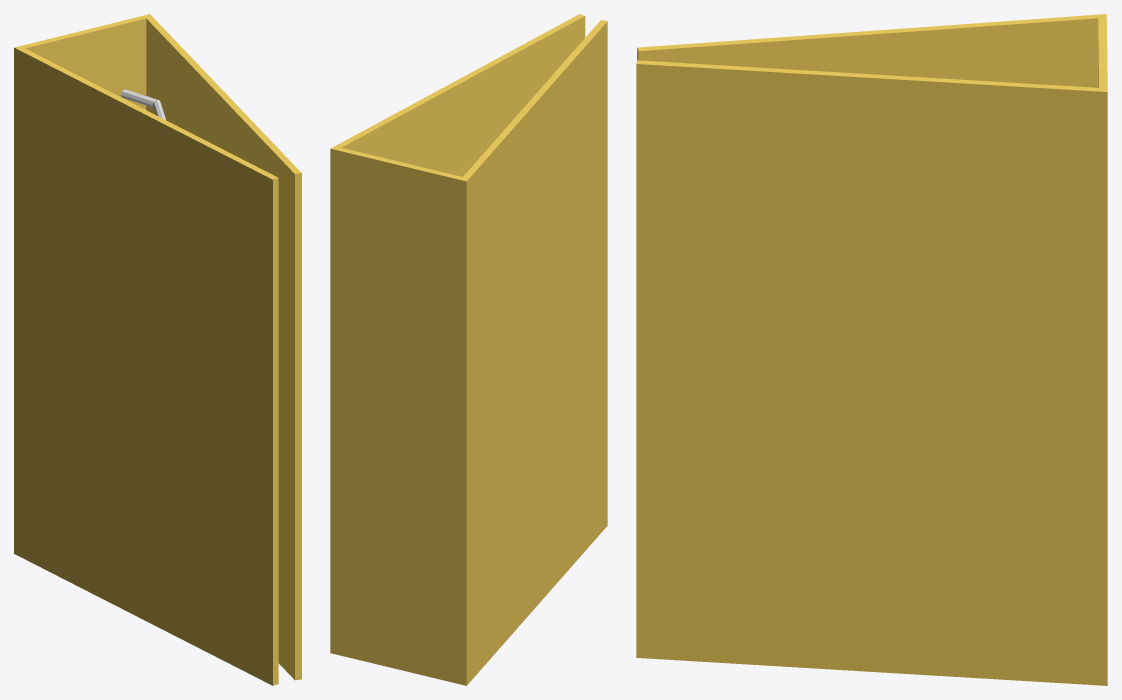
Rendered from Binder.fbx.
The picture shows the model from 3 angles, left to right: view 1: azimuth 30°, elevation 25°; view 2: azimuth 150°, elevation 25°; view 3: azimuth 270°, elevation 25°; orthographic projection. The views are drawn at different scales.
Visible parts, largest first — view 1: Torus; view 2: Torus; view 3: Torus.
Boxes of the visible parts, x1,y1,x2,y2 form: Torus: [14, 14, 301, 685]; Torus: [330, 14, 607, 685]; Torus: [636, 14, 1107, 685].
Size of the model in its own units: 8.18 by 29 by 20.87.
